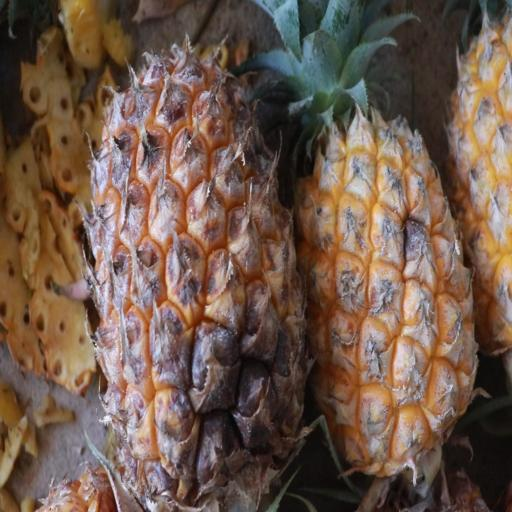Pineapple - v8 v1: (91, 36, 318, 511), (292, 21, 483, 482)
